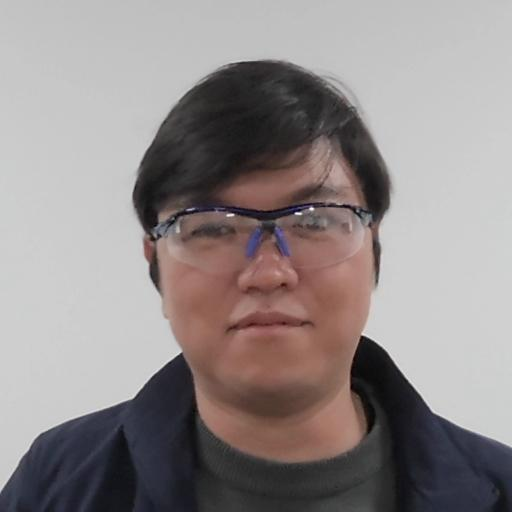glasses: (127, 57, 399, 408)
